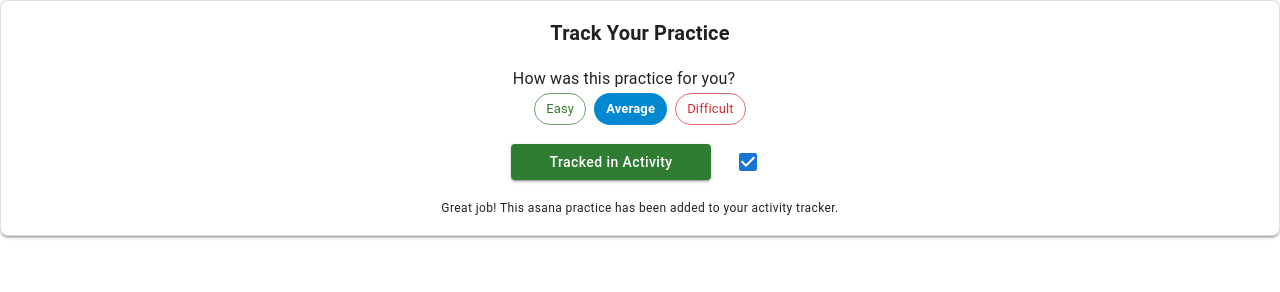
Test case: ActivityTracker Component › Error Handling Tests › should display error message when deleteActivity fails
This screenshot has width=1280, height=292.
Click the button "Tracked in Activity". click: x=611, y=162
box: [511, 144, 711, 180]
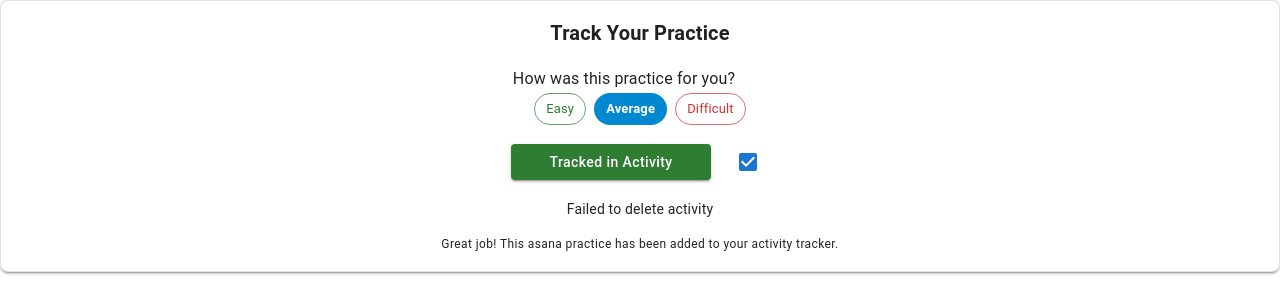
Expected: the text "Failed to delete activity" is shown, [567, 201, 713, 217]
